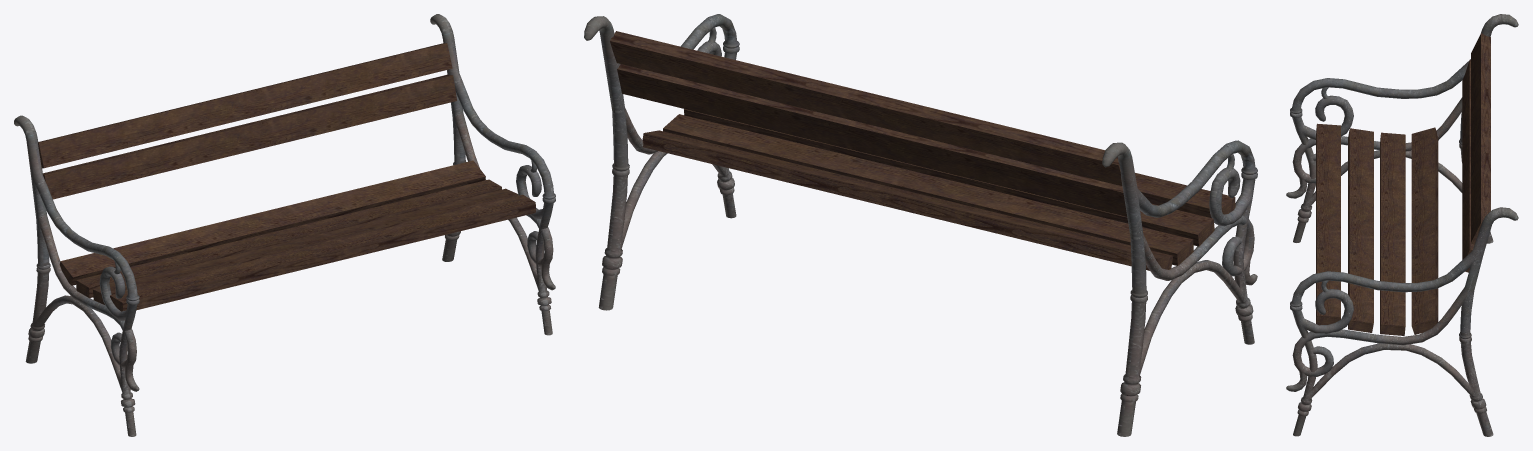
Rendered from bench.fbx.
3 renders of one model, left to right at view 1: azimuth 30°, elevation 25°; view 2: azimuth 150°, elevation 25°; view 3: azimuth 270°, elevation 25°, orthographic. The views are drawn at different scales.
Visible parts, largest first — view 1: pCube152; view 2: pCube152; view 3: pCube152.
Part boxes in pixels (x1,y1,x2,y2): pCube152: [14, 14, 555, 436]; pCube152: [584, 14, 1257, 436]; pCube152: [1286, 14, 1518, 436].
Bounding box in the file's own units: 1.97 × 1.04 × 0.9698.
